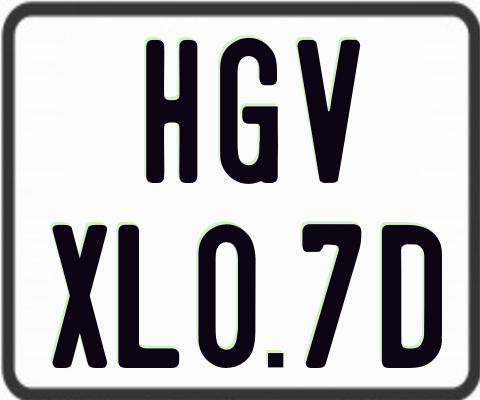0: (197, 222, 257, 370)
7: (302, 223, 366, 369)
D: (382, 223, 445, 371)
G: (217, 35, 279, 187)
H: (145, 40, 201, 183)
L: (118, 224, 181, 370)
V: (296, 40, 361, 184)
X: (52, 223, 107, 367)
